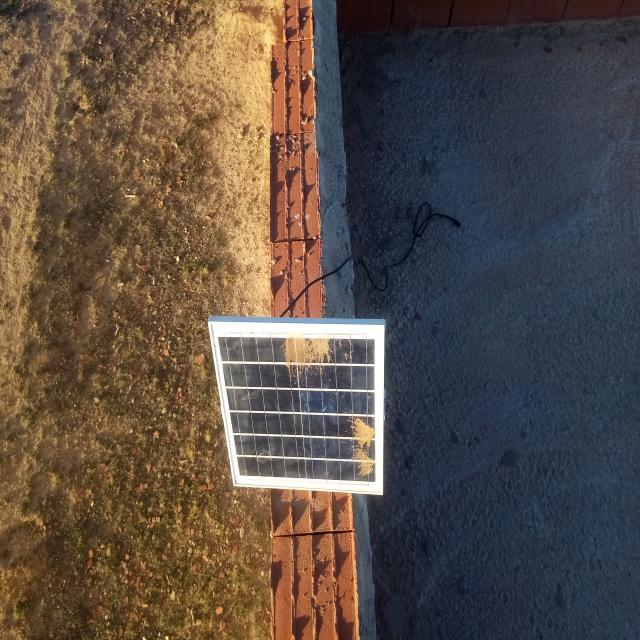faulty: (214, 322, 385, 494)
